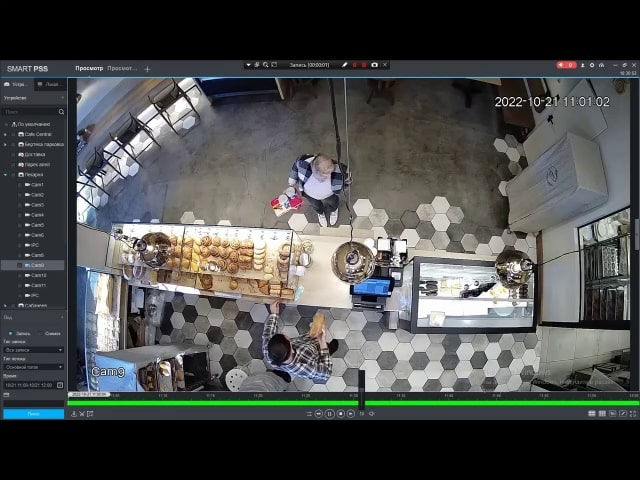barcounter: (88, 232, 542, 328)
person: (277, 153, 356, 227), (252, 316, 338, 379)
